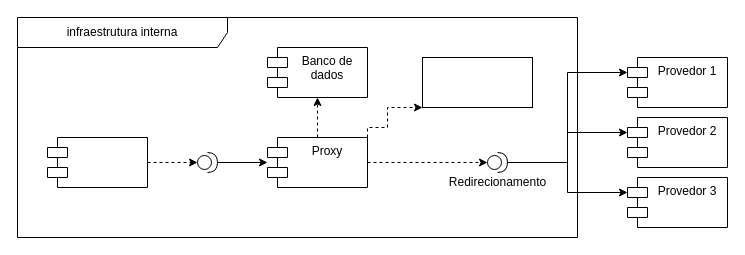
Some shapes in this 745 by 255 pixel diagram are drawn without their labels. The shapes that lost their labels are listed below. From the top down, each one's centre as x and y in pixels, then its label:
pixel 477 82: «interface» Object convert
pixel 97 162: Serviço de cadastro
pixel 207 162: ConsultarCEP
